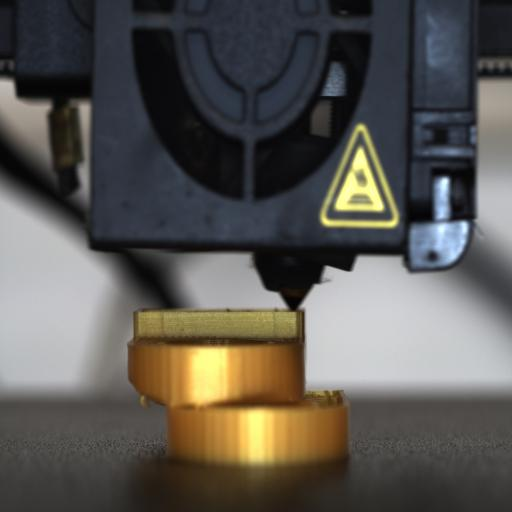layer_shift: (126, 377, 352, 415)
